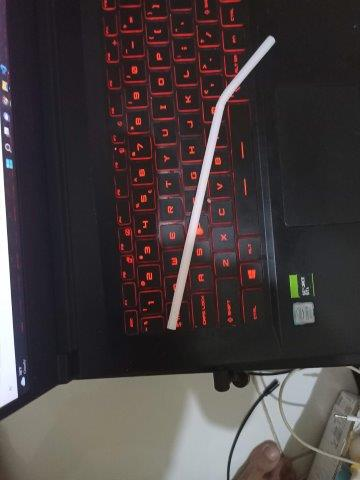sedotan: (167, 36, 275, 328)
